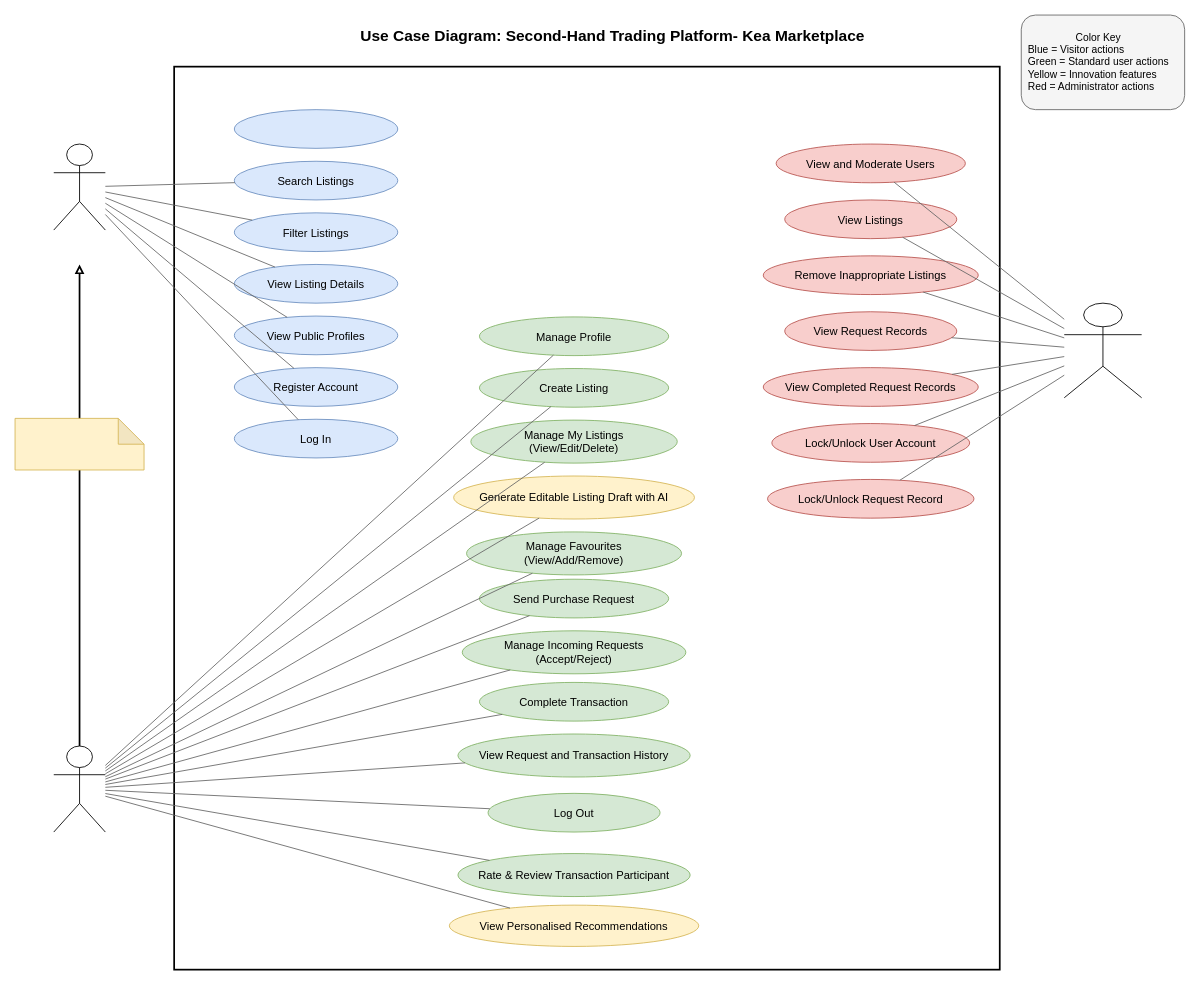
The diagram is 1200 pixels wide and 986 high, and some of its shapes have lost their labels. Each missing label, with the box of its shape:
Administrator: (1063, 302, 1142, 398)
Browse Listings: (233, 109, 398, 148)
User: (53, 745, 105, 832)
User inherits Visitor actions: (14, 418, 144, 470)
Visitor: (53, 143, 105, 230)
